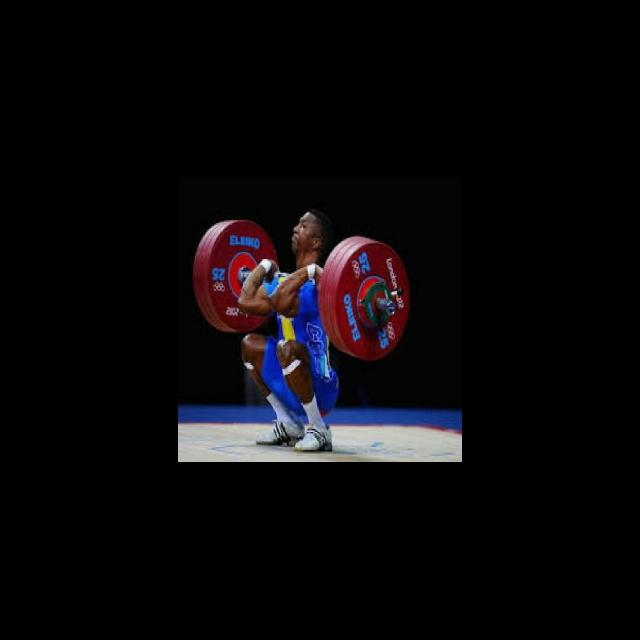barbell: (332, 240, 412, 359)
